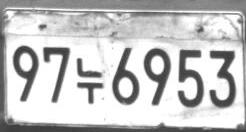3: (208, 49, 236, 108)
5: (177, 49, 204, 108)
6: (111, 47, 139, 105)
7: (42, 46, 71, 103)
9: (142, 47, 171, 106), (12, 44, 39, 102)
누: (76, 57, 103, 104)
